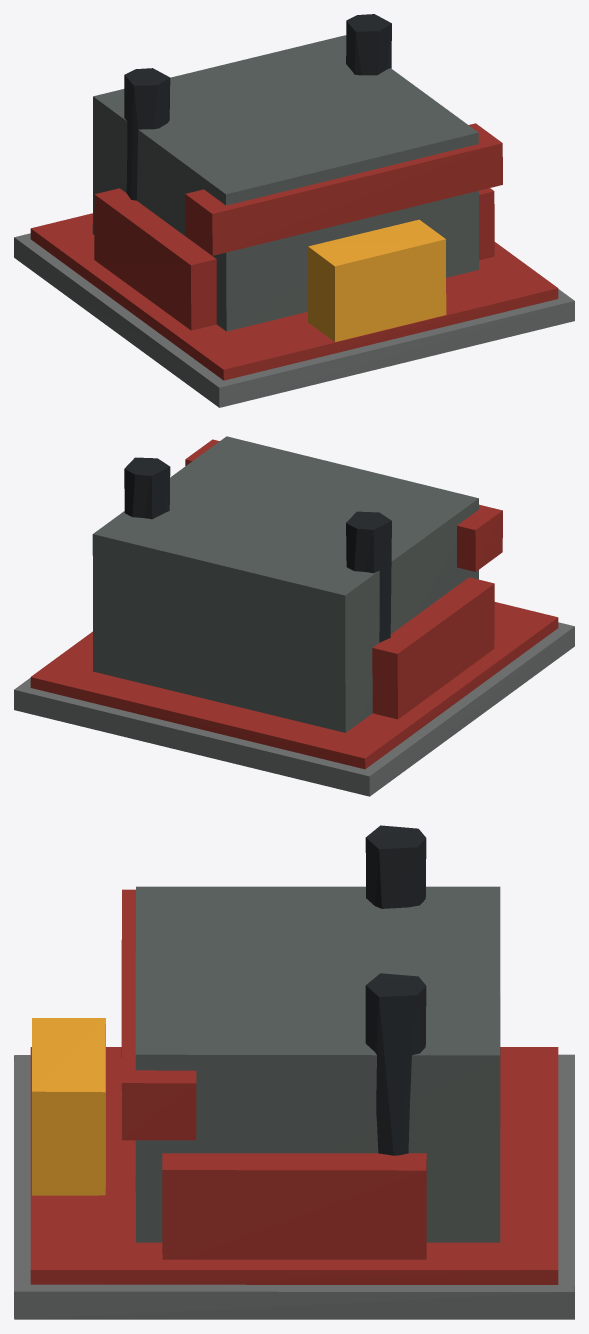
Rendered from SM_Soviet_SU_Barracks_LOD3.fbx.
The picture shows the model from 3 angles, top to bottom: view 1: azimuth 30°, elevation 25°; view 2: azimuth 150°, elevation 25°; view 3: azimuth 270°, elevation 25°; orthographic projection. The views are drawn at different scales.
Visible parts, largest first — view 1: LOD03_SM_Soviet_SU_Barracks; view 2: LOD03_SM_Soviet_SU_Barracks; view 3: LOD03_SM_Soviet_SU_Barracks.
Boxes of the visible parts, x1=… form: LOD03_SM_Soviet_SU_Barracks: x1=14, y1=14, x2=574, y2=407; LOD03_SM_Soviet_SU_Barracks: x1=14, y1=436, x2=574, y2=796; LOD03_SM_Soviet_SU_Barracks: x1=14, y1=825, x2=574, y2=1319.
Size of the model in its own units: 597 by 597 by 340.
